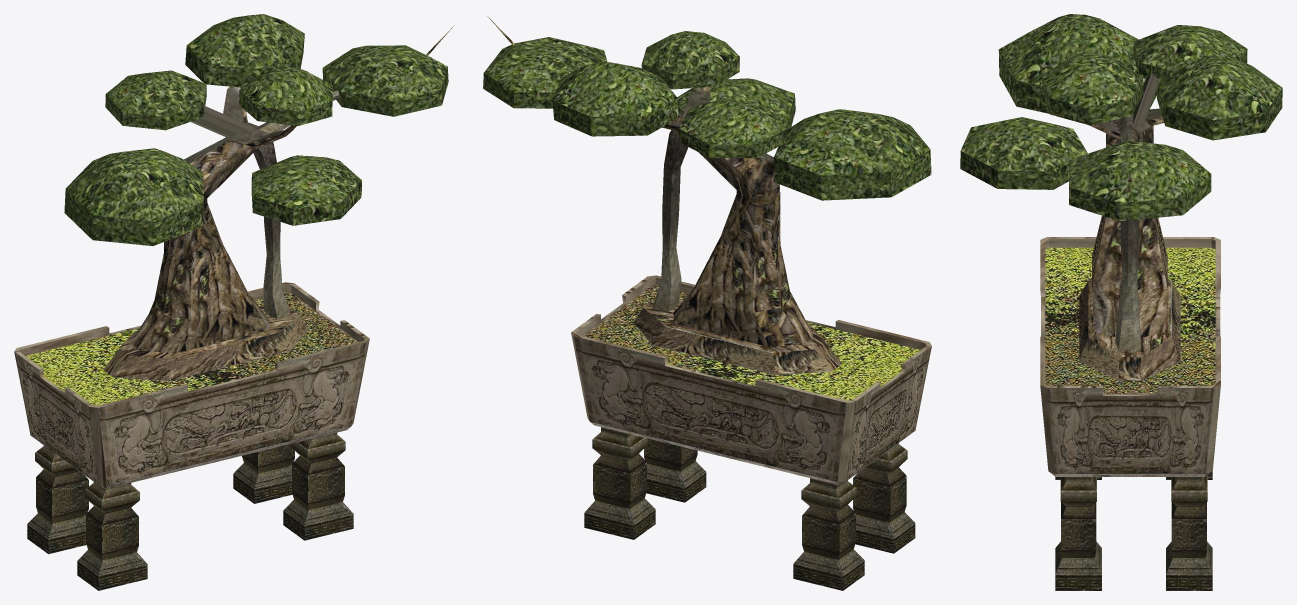
File: cay-sanh-3.glb
The picture shows the model from 3 angles, left to right: view 1: azimuth 30°, elevation 25°; view 2: azimuth 150°, elevation 25°; view 3: azimuth 270°, elevation 25°; orthographic projection. The views are drawn at different scales.
Parts seen in each view (by area): view 1: Rectangle002; view 2: Rectangle002; view 3: Rectangle002.
Part boxes in pixels (x1,y1,x2,y2): Rectangle002: [14, 14, 453, 590]; Rectangle002: [483, 16, 931, 590]; Rectangle002: [960, 14, 1282, 590].
Bounding box in the file's own units: 2.63 × 2.91 × 1.65.
1 material, 1 textured.
